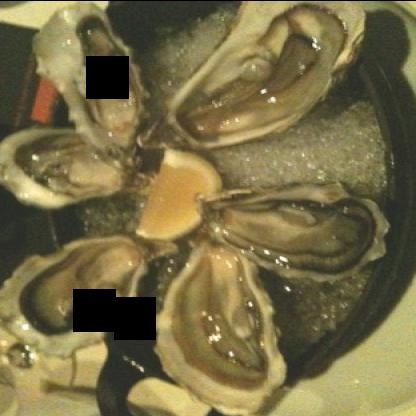oyster: (162, 1, 369, 146), (26, 5, 156, 161), (153, 244, 279, 400), (194, 189, 390, 281), (0, 234, 146, 353), (0, 127, 130, 205)
